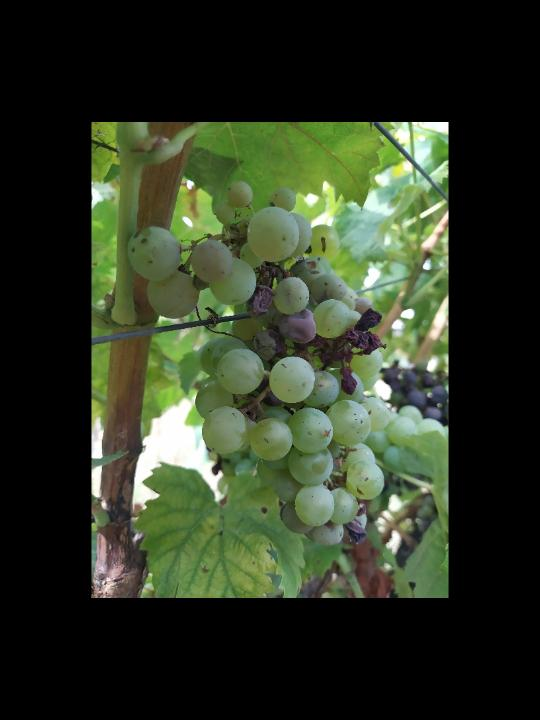grape: (125, 179, 390, 548)
